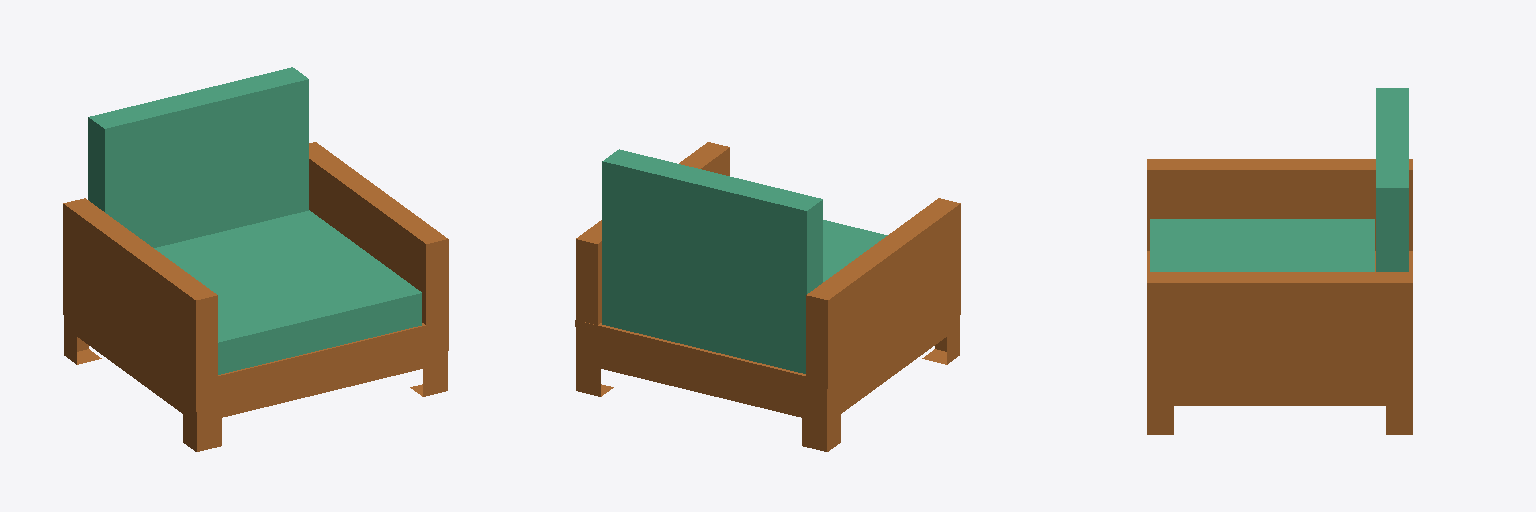
The picture shows the model from 3 angles: view 1: azimuth 30°, elevation 25°; view 2: azimuth 150°, elevation 25°; view 3: azimuth 270°, elevation 25°; orthographic projection.
Parts seen in each view (by area): view 1: pasted__pasted__polySurface4; view 2: pasted__pasted__polySurface4; view 3: pasted__pasted__polySurface4.
Boxes of the visible parts, x1=… form: pasted__pasted__polySurface4: x1=63, y1=67, x2=448, y2=451; pasted__pasted__polySurface4: x1=575, y1=142, x2=960, y2=451; pasted__pasted__polySurface4: x1=1147, y1=88, x2=1412, y2=434.
Size of the model in its own units: 0.956 by 0.8459 by 0.8694.
Materials: 2 (2 with a texture image).